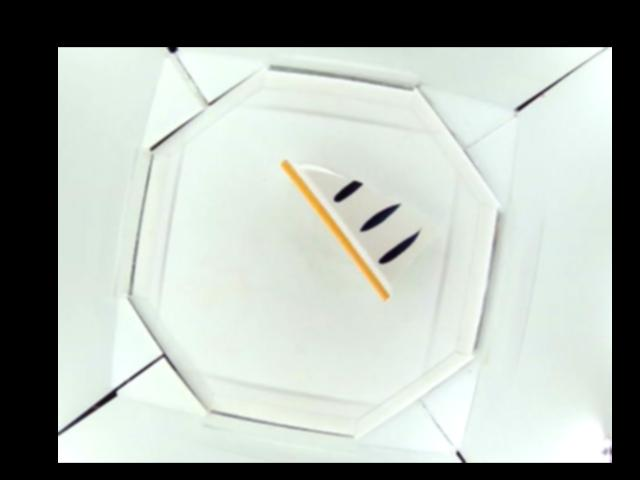China: (282, 158, 428, 302)
